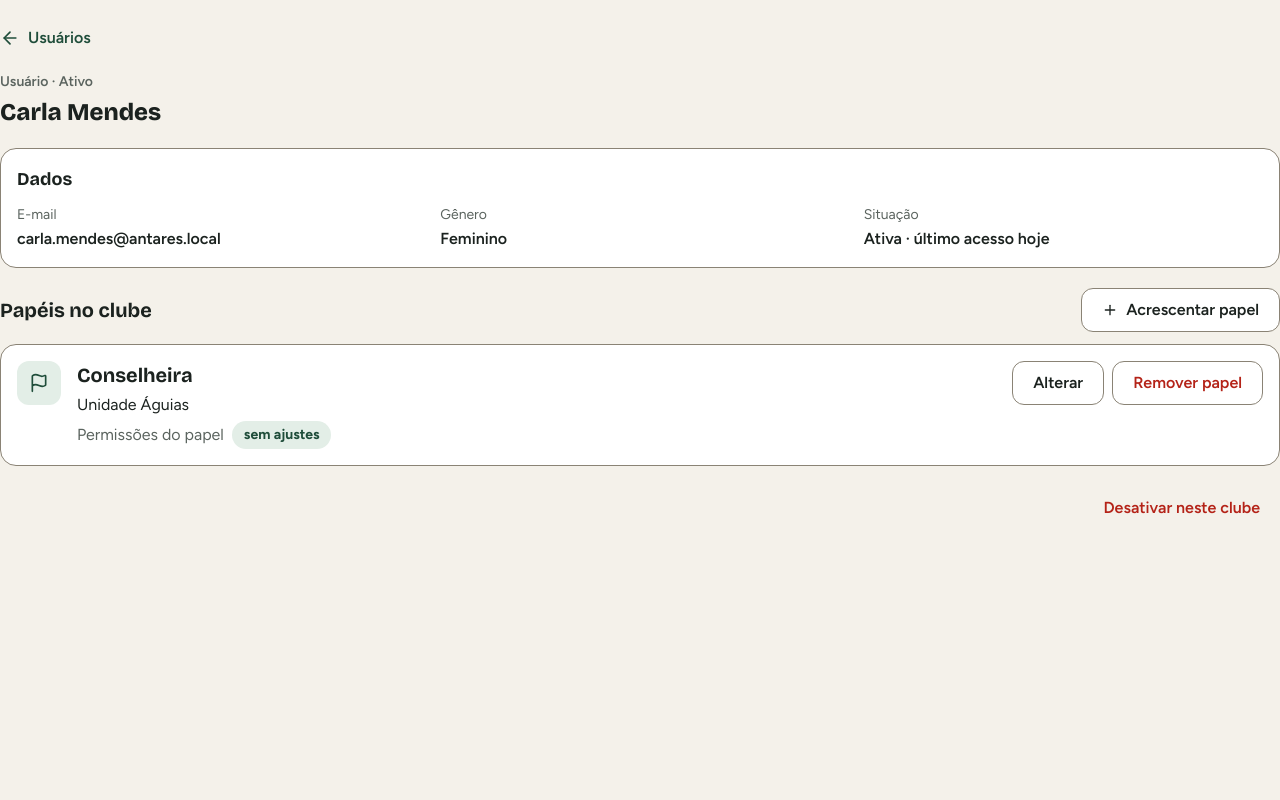
Test case: ficha do usuário › último Adm ao desativar: o alerta aparece dentro do diálogo, que segue aberto
The image size is (1280, 800).
Click the button "Desativar neste clube": (1182,508) [1084,486,1279,530]
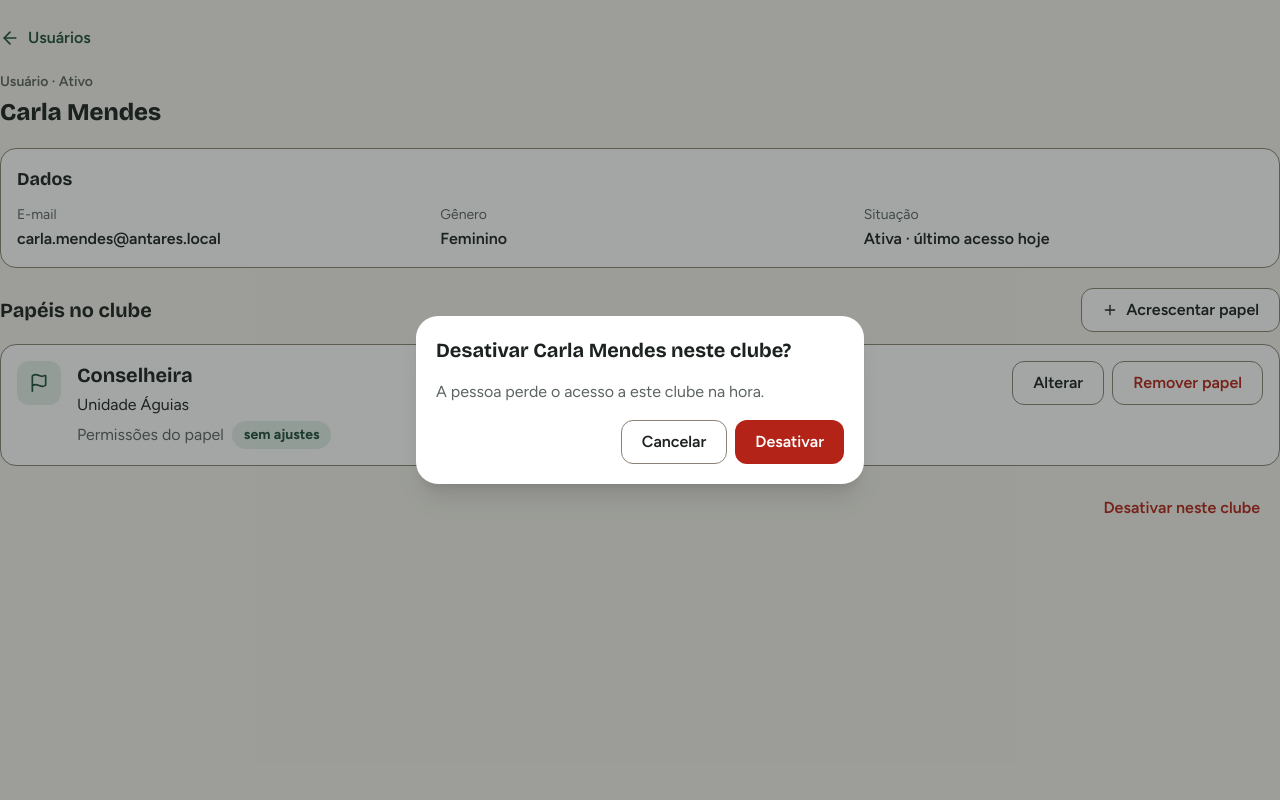
Click the button "Desativar": (790,442) [735,420,844,464]
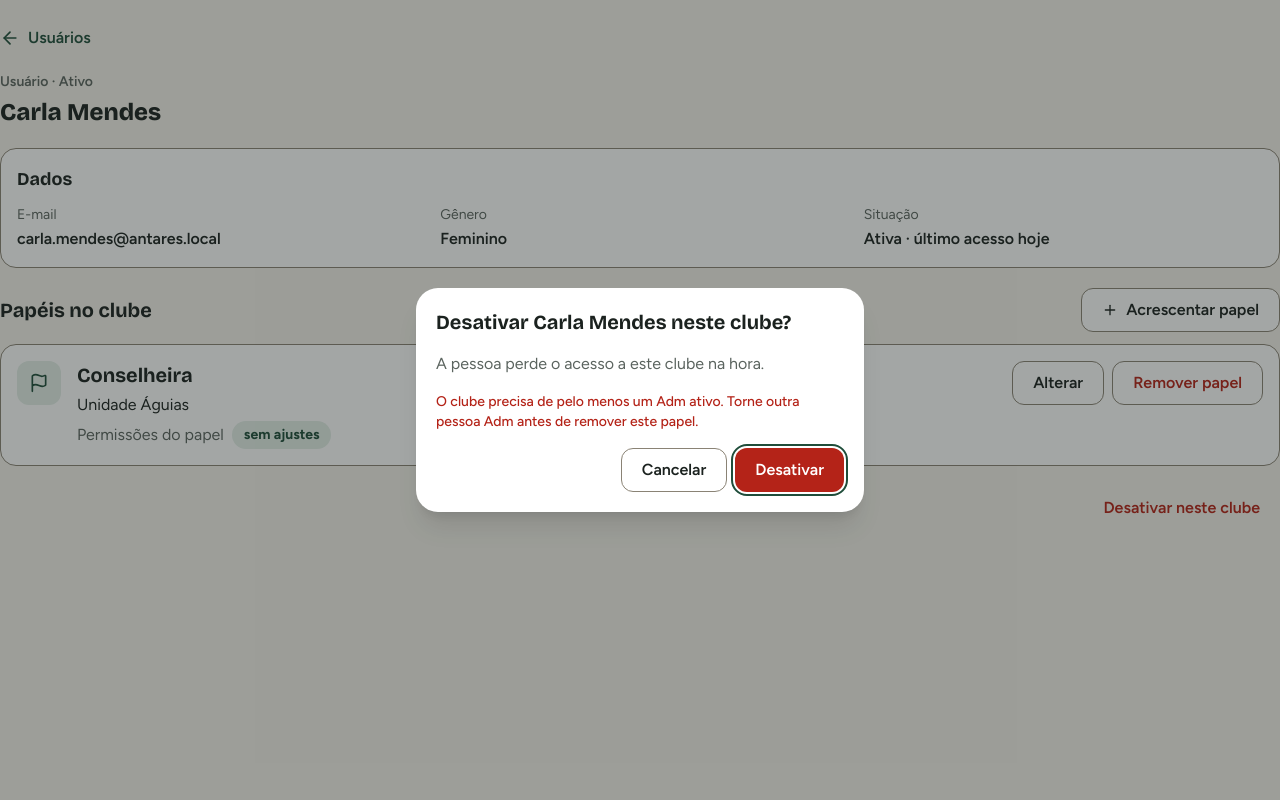
expect the dialog is shown: met, box [416,288,864,512]
expect the message shows "O clube precisa de pelo menos um Adm ativo.": met, box [436,393,800,430]
